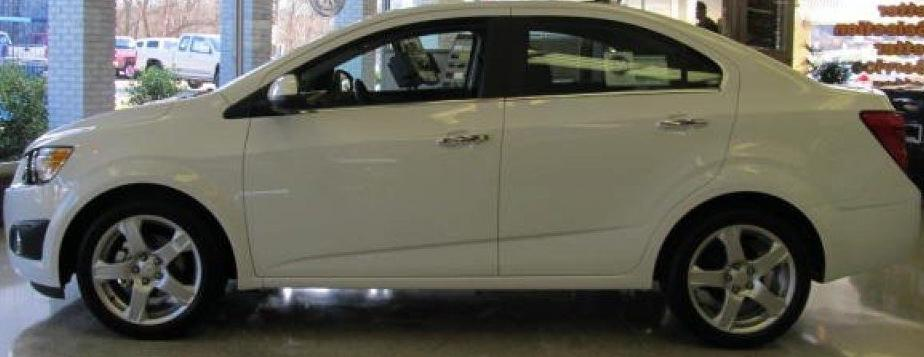backlight: (852, 110, 920, 185)
headlight: (8, 140, 78, 194)
side_glass: (291, 11, 731, 130)
